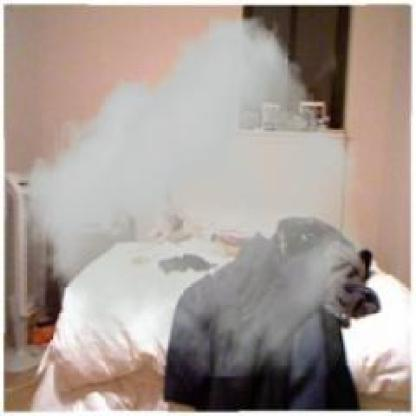Smoke: (18, 16, 365, 377)
